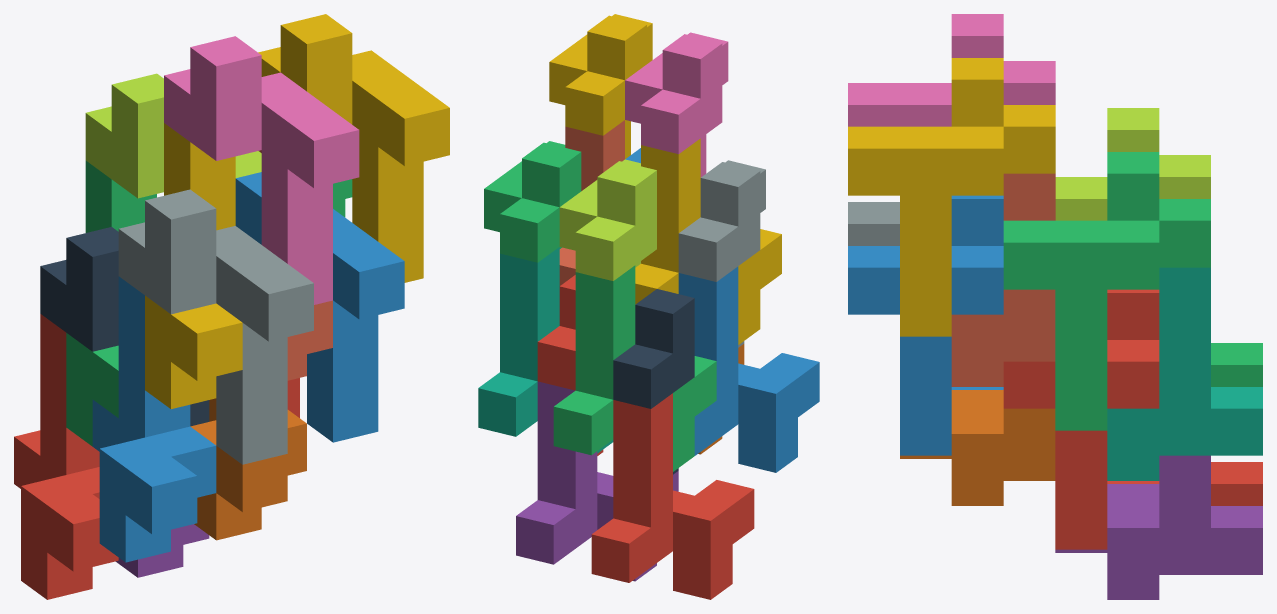
File: tiling.obj
3 views of the same model, side by side, from view 1: azimuth 30°, elevation 25°; view 2: azimuth 150°, elevation 25°; view 3: azimuth 270°, elevation 25° (orthographic). The views are drawn at different scales.
Parts seen in each view (by area): view 1: copy_2_domain_2, copy_2_domain_4, copy_2_domain_8, copy_1_domain_2, copy_1_domain_1, copy_2_domain_6, copy_1_domain_4, copy_2_domain_3, copy_2_domain_1, copy_1_domain_6, copy_1_domain_3, copy_1_domain_8 (+1 smaller); view 2: copy_1_domain_1, copy_1_domain_2, copy_1_domain_3, copy_1_domain_5, copy_1_domain_7, copy_2_domain_4, copy_1_domain_4, copy_2_domain_3, copy_2_domain_8, copy_2_domain_7, copy_2_domain_2, copy_2_domain_1 (+2 smaller); view 3: copy_2_domain_7, copy_2_domain_8, copy_1_domain_7, copy_2_domain_6, copy_1_domain_5, copy_2_domain_5, copy_1_domain_8, copy_1_domain_6, copy_2_domain_4, copy_2_domain_3, copy_1_domain_1, copy_1_domain_3 (+1 smaller).
Boxes of the visible parts, <box> form: copy_2_domain_2: <box>118,189,313,464</box>; copy_2_domain_4: <box>164,36,359,304</box>; copy_2_domain_8: <box>258,14,449,282</box>; copy_1_domain_2: <box>92,276,216,562</box>; copy_1_domain_1: <box>14,314,118,599</box>; copy_2_domain_6: <box>235,172,404,442</box>; copy_1_domain_4: <box>145,123,242,409</box>; copy_2_domain_3: <box>85,73,261,198</box>; copy_2_domain_1: <box>40,227,209,426</box>; copy_1_domain_6: <box>190,398,306,540</box>; copy_1_domain_3: <box>66,160,156,446</box>; copy_1_domain_8: <box>259,150,332,380</box>; copy_1_domain_1: <box>591,393,754,599</box>; copy_1_domain_2: <box>678,266,819,472</box>; copy_1_domain_3: <box>553,265,716,471</box>; copy_1_domain_5: <box>516,381,678,581</box>; copy_1_domain_7: <box>478,247,613,453</box>; copy_2_domain_4: <box>625,32,728,177</box>; copy_1_domain_4: <box>635,138,781,344</box>; copy_2_domain_3: <box>559,159,656,280</box>; copy_2_domain_8: <box>549,14,652,158</box>; copy_2_domain_7: <box>484,141,581,262</box>; copy_2_domain_2: <box>678,160,765,347</box>; copy_2_domain_1: <box>613,289,694,474</box>; copy_2_domain_7: <box>1003,152,1210,430</box>; copy_2_domain_8: <box>848,58,1055,336</box>; copy_1_domain_7: <box>1107,267,1262,480</box>; copy_2_domain_6: <box>848,195,1003,455</box>; copy_1_domain_5: <box>1055,455,1262,599</box>; copy_2_domain_5: <box>1003,289,1159,549</box>; copy_1_domain_8: <box>951,173,1055,386</box>; copy_1_domain_6: <box>900,390,1055,505</box>; copy_2_domain_4: <box>848,14,1055,126</box>; copy_2_domain_3: <box>1055,108,1210,220</box>; copy_1_domain_1: <box>1107,462,1262,505</box>; copy_1_domain_3: <box>1211,343,1262,386</box>.
Size of the model in its own units: 6 by 12 by 8.
